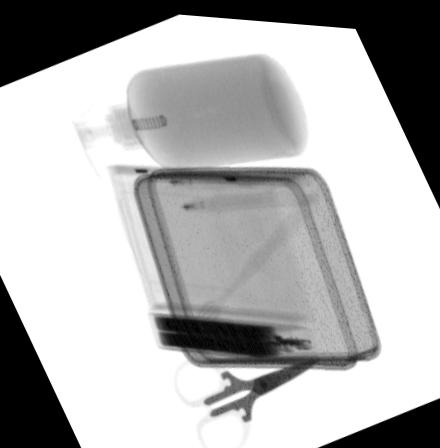Powerbank: (143, 302, 319, 357)
Scissors: (169, 345, 326, 448)
